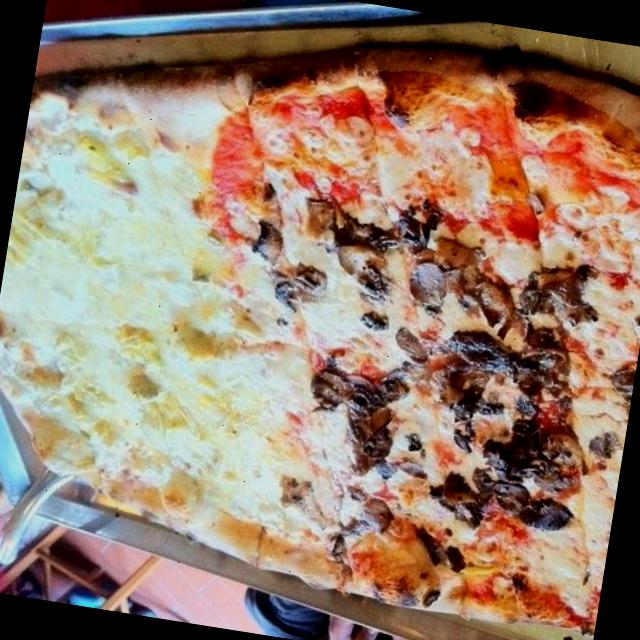cheese: (0, 115, 310, 540), (242, 362, 364, 536)
mushrooms: (402, 247, 630, 548), (316, 210, 410, 336), (374, 195, 460, 312), (304, 352, 414, 427), (336, 396, 404, 488), (268, 248, 335, 318), (334, 482, 396, 548), (292, 184, 349, 255), (386, 421, 439, 490), (412, 527, 468, 578), (390, 329, 443, 365), (248, 220, 288, 266)
pizza: (0, 48, 640, 635)
